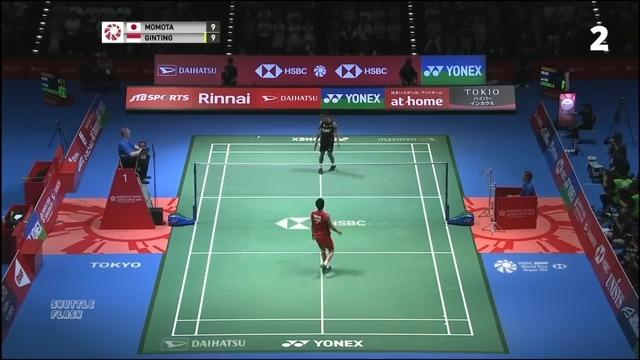Shuttlecock: (252, 133, 264, 143)
